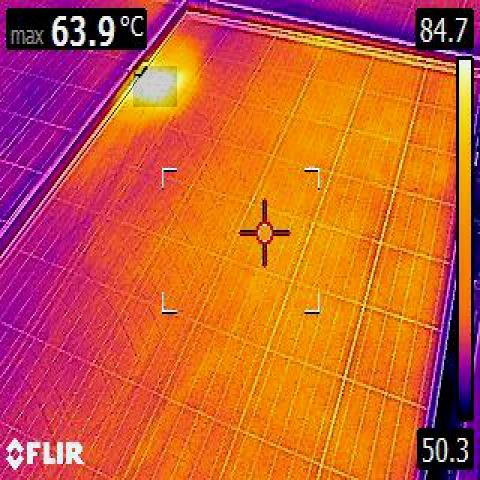fault: (134, 66, 178, 107)
